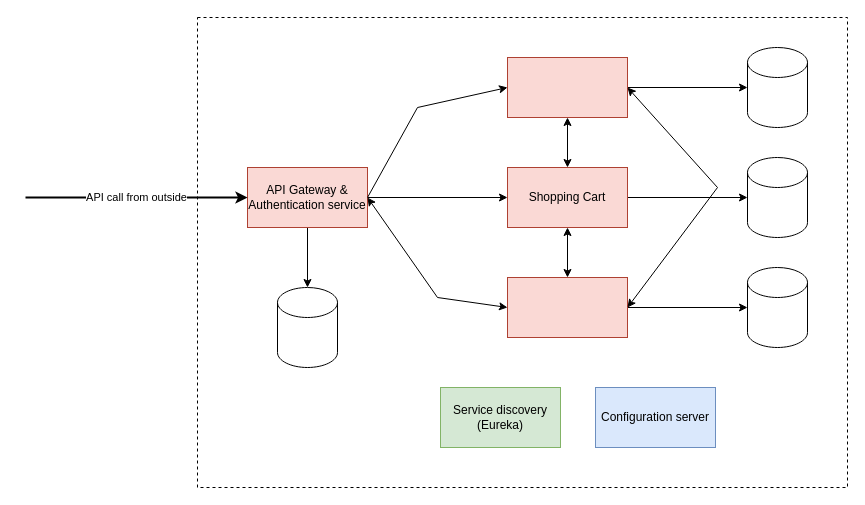
Image size: 865x505. Some labels were removed from this diagram. The shapes that lost their labels are listed below. From the top down, each one's centre as x and y in pixels, then its label:
At (567,87): "Product".
At (567,307): "Customer".
